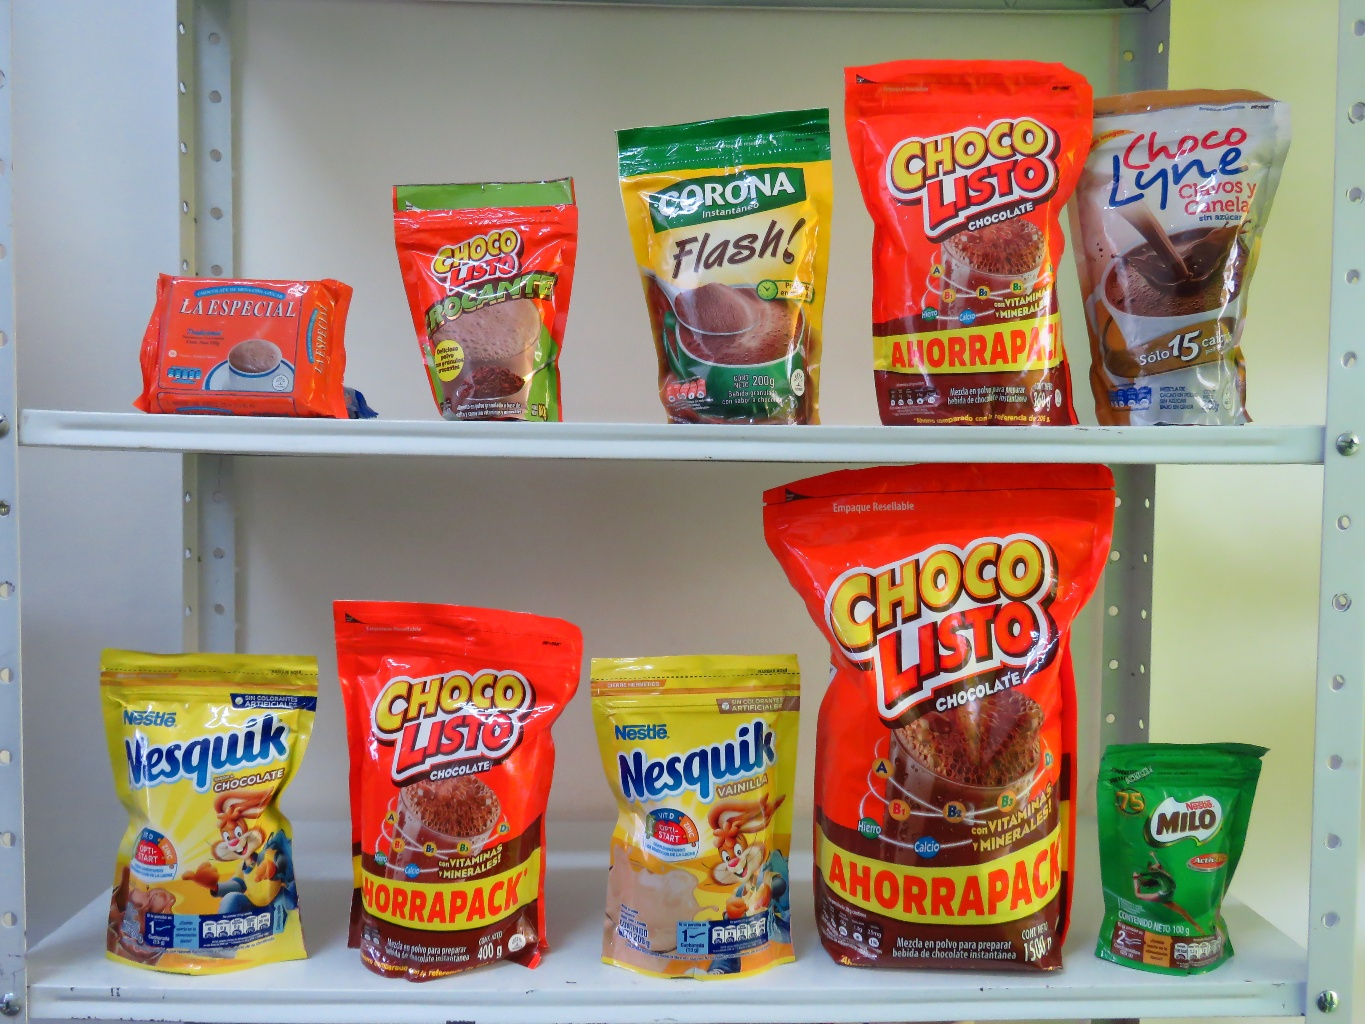COL0170102DYP10000: (387, 175, 597, 431)
COL0170103DYP1,500: (758, 459, 1132, 1004)
COL0170103DYP36000: (833, 49, 1113, 436)
COL0170103DYP40000: (329, 594, 592, 997)
COL0170203DYP10000: (1091, 726, 1275, 982)
COL0170303DYP20000: (85, 646, 322, 1001)
COL0170306DYP20000: (593, 650, 816, 980)
